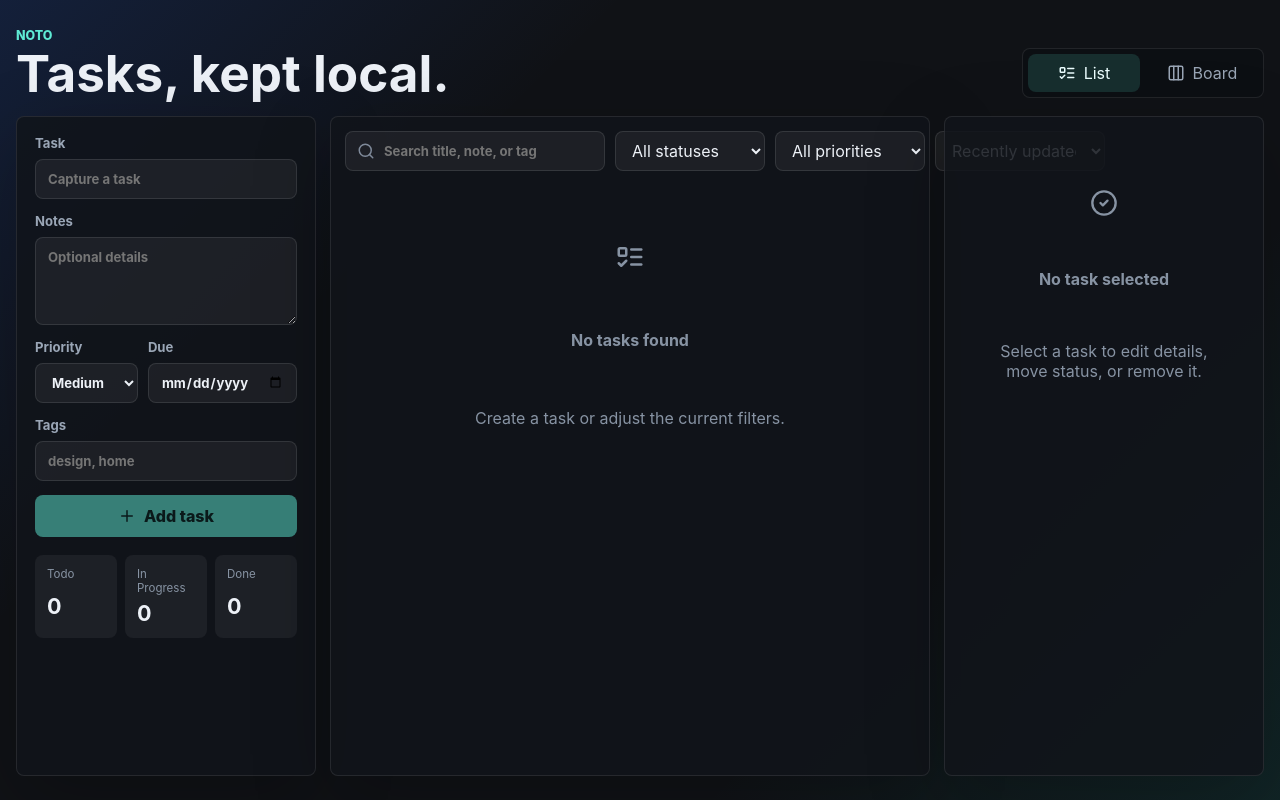
it: App › creates a task and persists the next state
Type "Write component tests" into the field with placeholder "Capture a task".
click(166, 179); type("Write component tests")  # box [35,159,297,199]
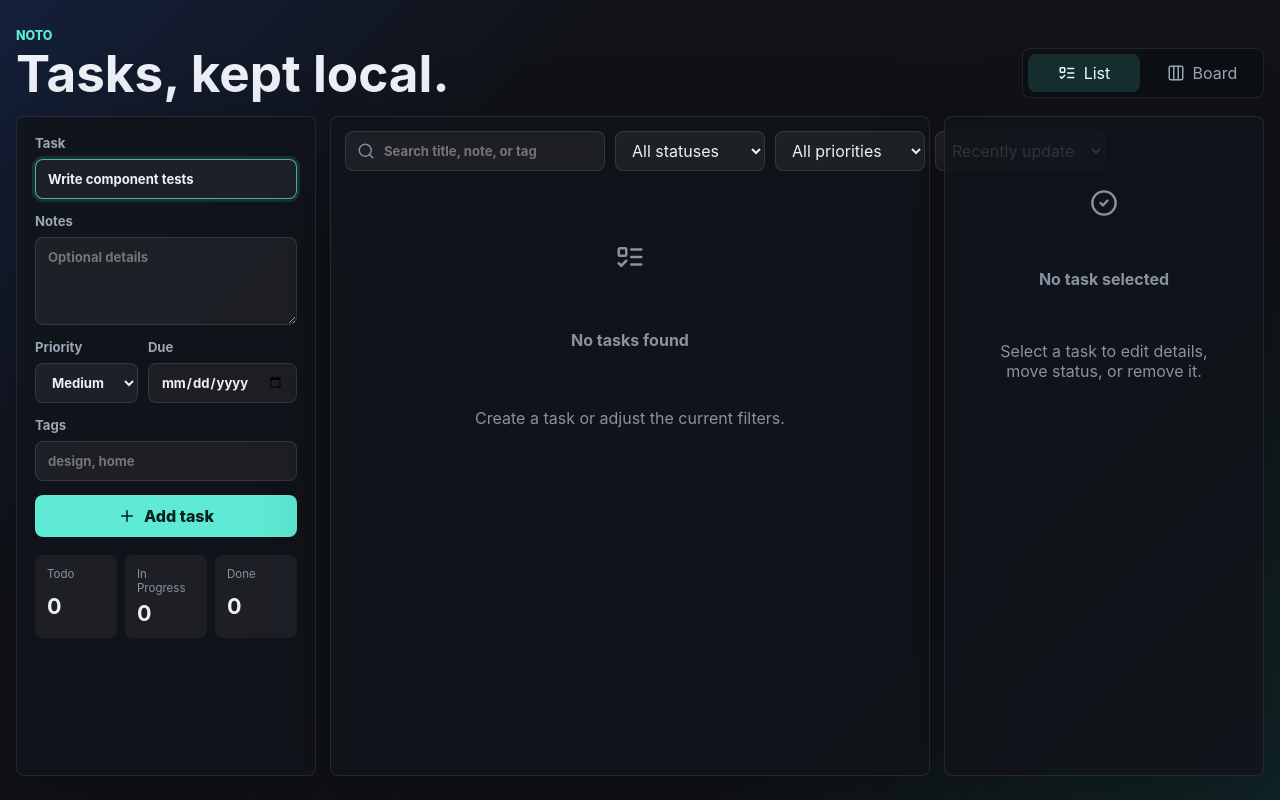
Click the button "Add task".
click(166, 516)  # box [35,495,297,537]
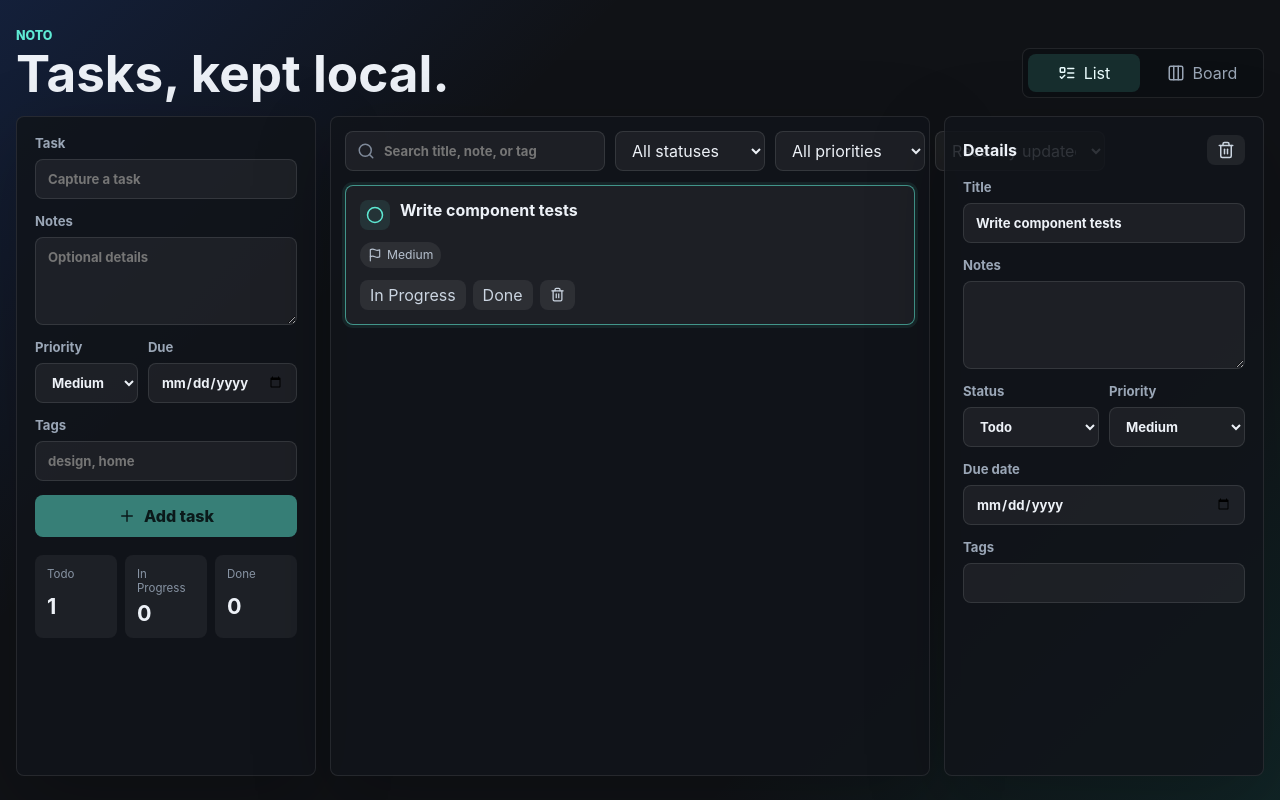
Check: the heading "Write component tests" is shown, box [400,200,578,220]
